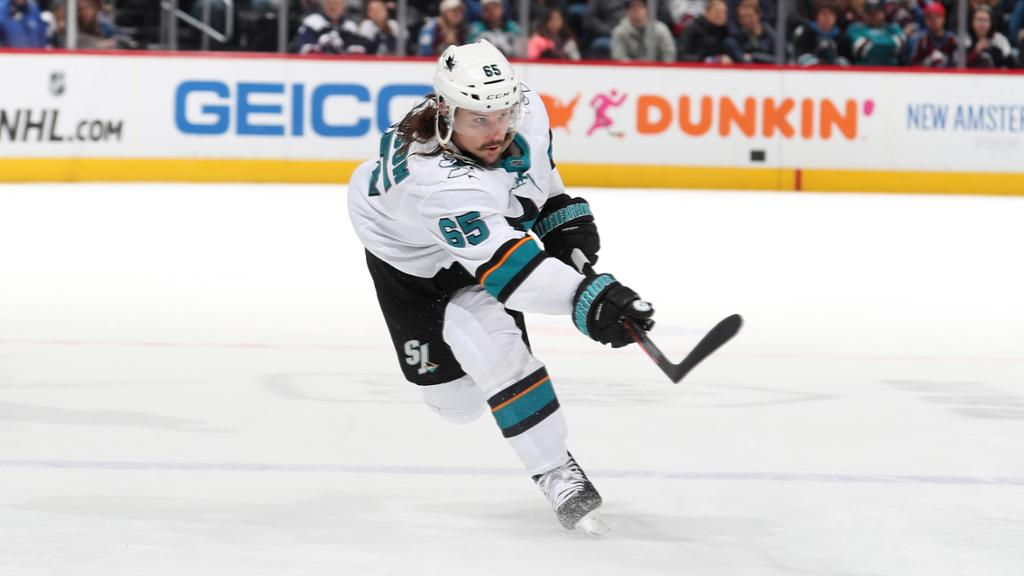geico: (169, 76, 422, 144)
